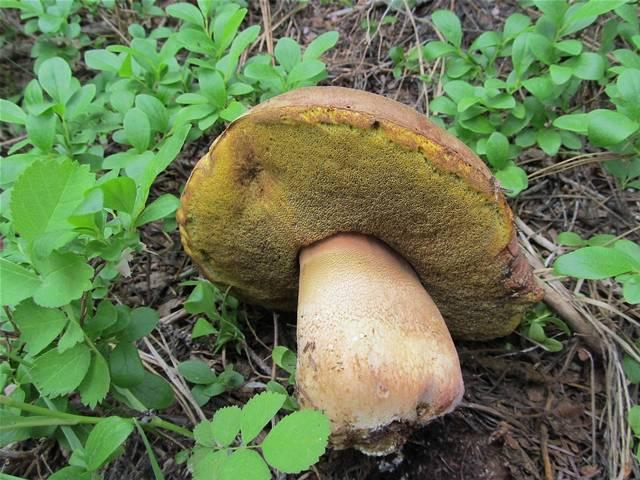Edible Mushroom: (175, 84, 545, 457)
